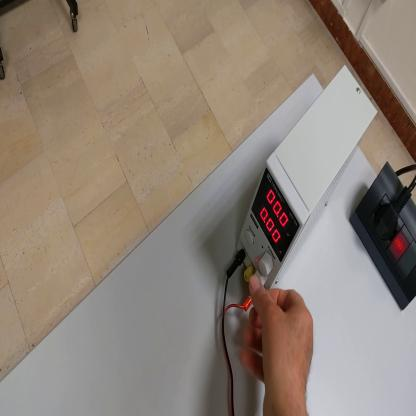hand: (243, 275, 315, 415)
power supply: (237, 65, 377, 294)
socket: (350, 162, 416, 311)
